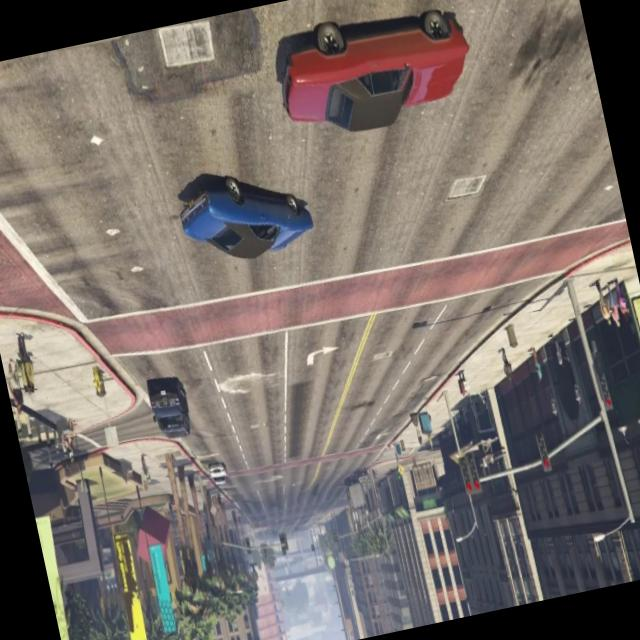Red-Signal: (526, 413, 564, 486), (455, 443, 488, 505)
